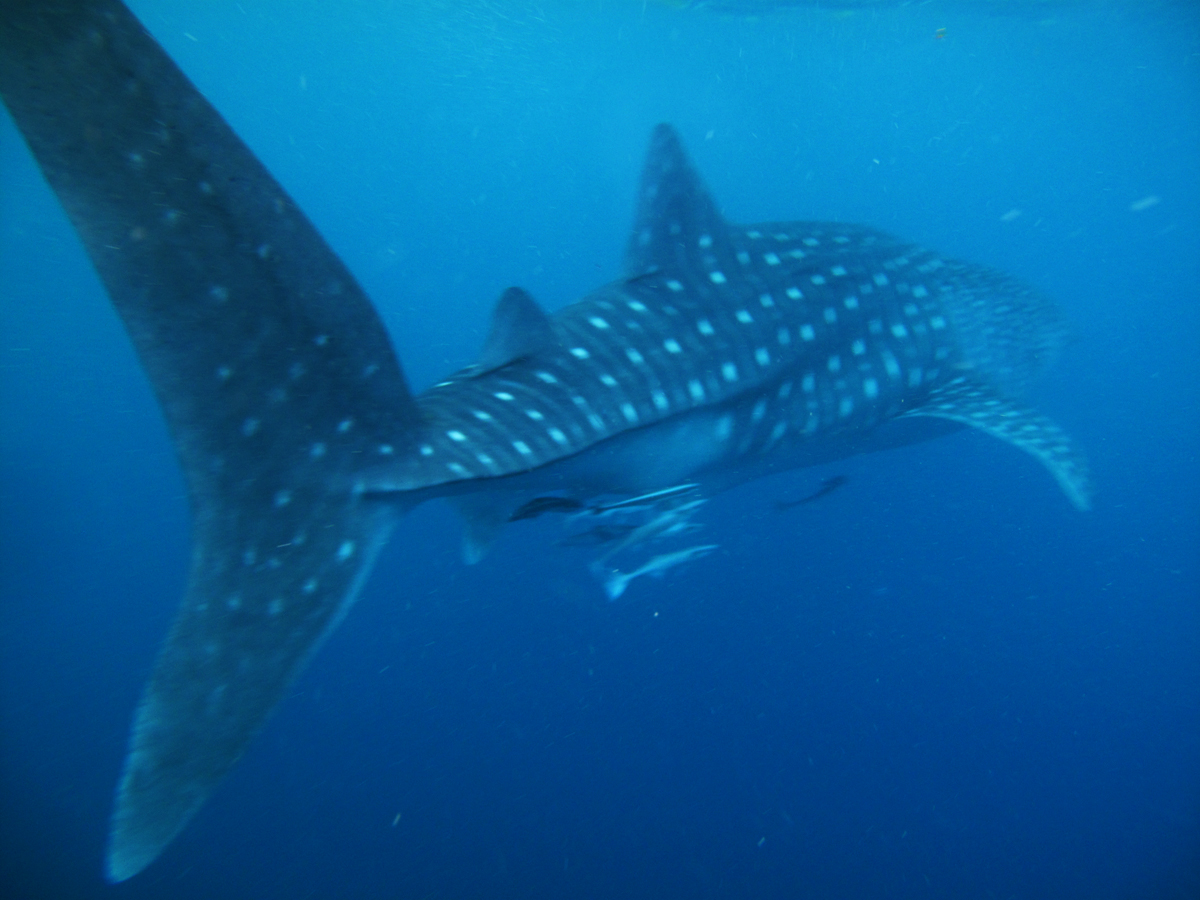Rhincodon_typusw: (1, 1, 1112, 826)
